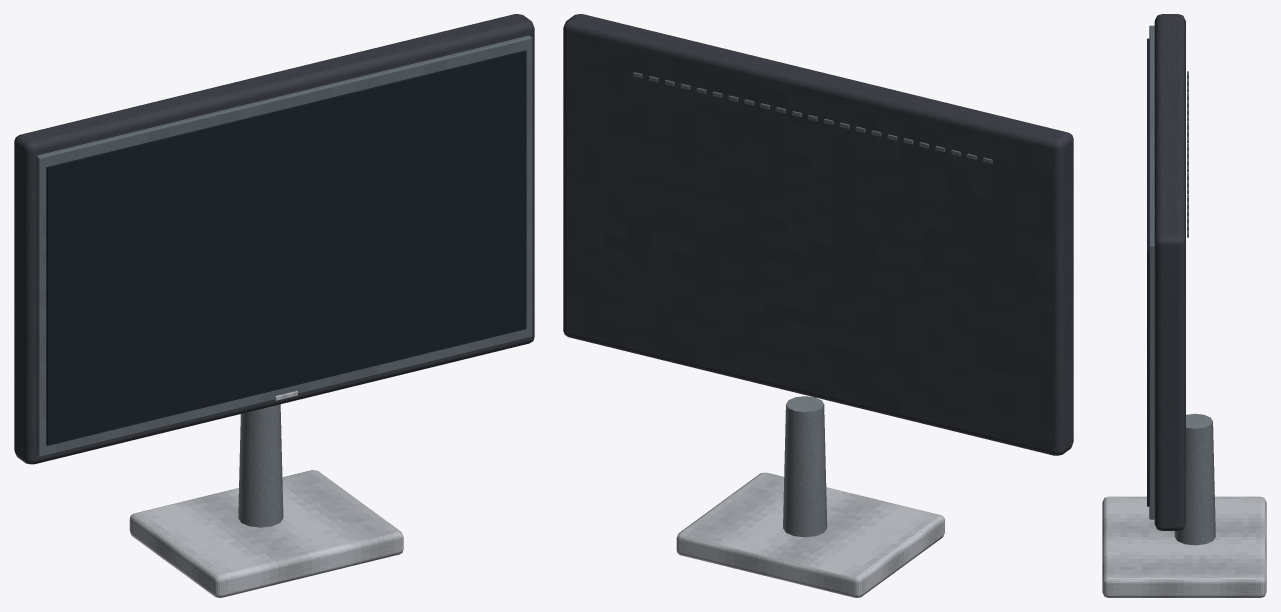
File: monitor_32in02.glb
3 views of the same model, side by side, from view 1: azimuth 30°, elevation 25°; view 2: azimuth 150°, elevation 25°; view 3: azimuth 270°, elevation 25° (orthographic). The views are drawn at different scales.
Visible parts, largest first — view 1: panel, back, base, bezel, support; view 2: back, base, support, rear_vents; view 3: back, base, support, bezel, panel, rear_vents.
Part boxes in pixels (bbox=[...]): panel: bbox=[46, 50, 526, 445]; back: bbox=[14, 14, 534, 464]; base: bbox=[129, 470, 403, 597]; bezel: bbox=[36, 35, 532, 456]; support: bbox=[238, 404, 283, 527]; back: bbox=[563, 14, 1073, 455]; base: bbox=[676, 472, 944, 597]; support: bbox=[783, 396, 827, 537]; rear_vents: bbox=[633, 72, 992, 163]; back: bbox=[1154, 14, 1185, 530]; base: bbox=[1102, 496, 1266, 597]; support: bbox=[1174, 413, 1215, 545]; bezel: bbox=[1149, 25, 1154, 519]; panel: bbox=[1147, 38, 1149, 506]; rear_vents: bbox=[1187, 71, 1188, 237].
Size of the model in its own units: 0.755 by 0.67 by 0.23.
5 materials, 4 textured.
